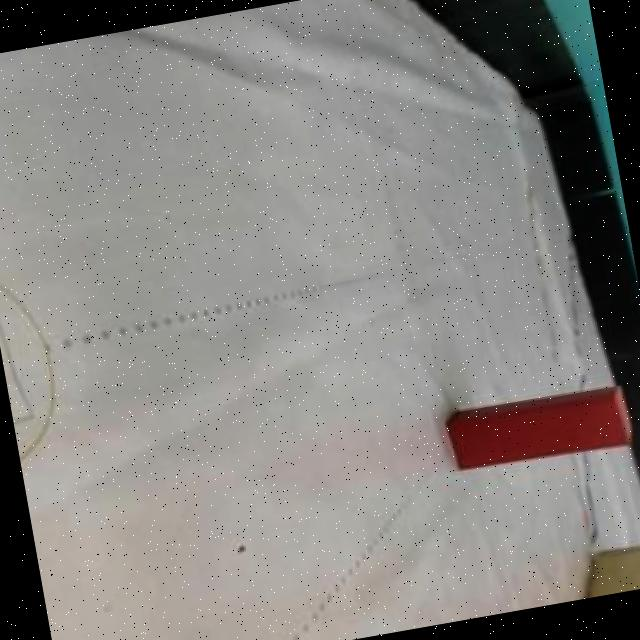redbox: (440, 379, 636, 476)
